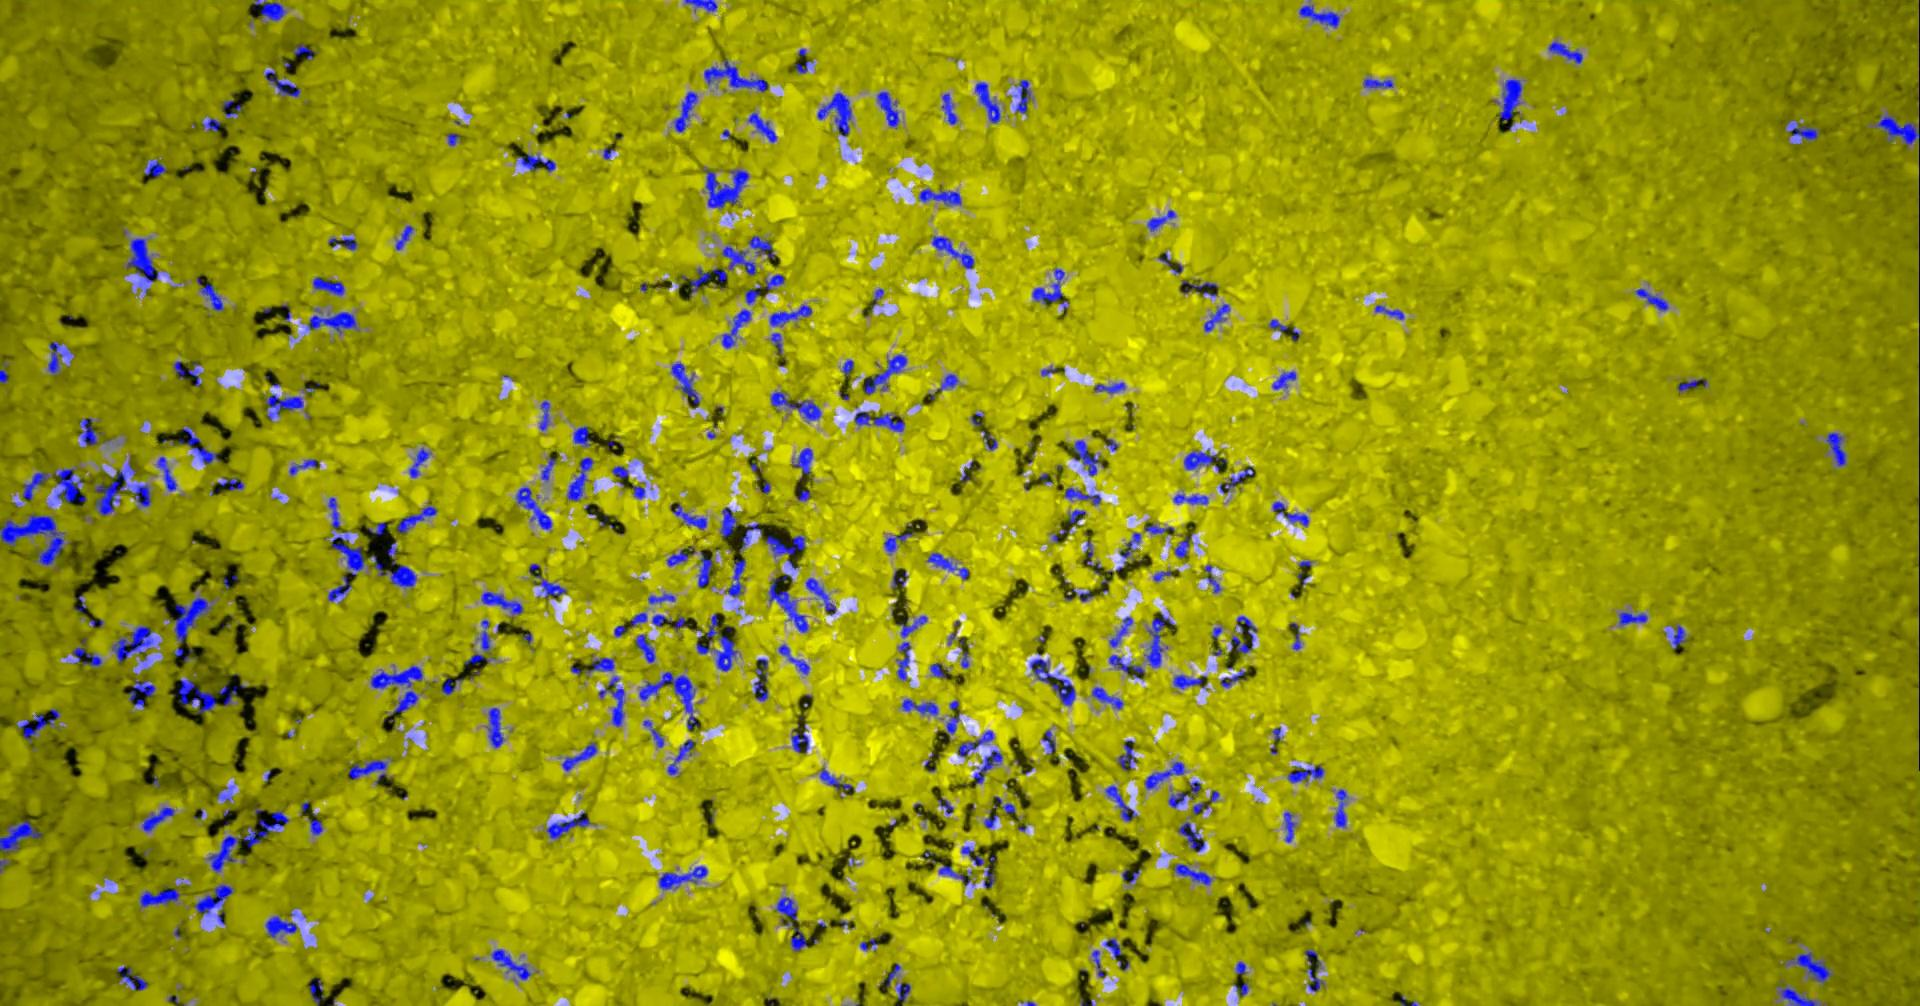ant: (207, 810, 288, 873), (637, 671, 697, 730), (370, 666, 422, 715), (1030, 652, 1076, 705), (768, 573, 808, 633), (94, 462, 135, 514), (703, 58, 767, 91), (703, 169, 748, 208), (171, 427, 218, 464), (1143, 614, 1175, 667), (863, 354, 905, 394), (174, 597, 211, 641), (110, 625, 152, 662), (516, 486, 551, 528), (817, 91, 851, 135), (331, 531, 364, 575), (18, 708, 58, 743), (370, 555, 417, 586), (770, 391, 820, 419), (1032, 268, 1068, 307), (931, 235, 973, 268), (126, 238, 157, 281), (1785, 951, 1831, 981), (528, 563, 566, 597), (177, 680, 216, 713), (598, 676, 623, 727), (1876, 116, 1919, 145), (0, 821, 41, 851), (491, 948, 530, 979), (546, 812, 590, 838), (1103, 785, 1137, 821), (670, 362, 698, 404), (658, 865, 706, 889), (566, 457, 593, 500), (193, 884, 232, 913), (396, 506, 437, 533), (690, 267, 726, 297), (805, 577, 836, 614), (721, 309, 750, 347), (55, 467, 86, 502), (927, 553, 968, 579), (1144, 761, 1183, 788), (721, 245, 756, 276), (307, 311, 356, 333), (1072, 439, 1101, 475), (265, 394, 303, 420), (974, 83, 999, 122), (1498, 79, 1521, 122), (1230, 615, 1256, 653), (196, 276, 223, 310), (770, 304, 811, 326), (1183, 448, 1225, 471), (561, 742, 596, 770), (673, 91, 697, 131), (855, 412, 904, 431), (481, 591, 522, 614), (778, 644, 809, 674), (973, 749, 1001, 782), (348, 760, 386, 784), (667, 739, 693, 774), (1109, 654, 1144, 680), (957, 730, 993, 756), (1299, 4, 1338, 27), (747, 112, 776, 142), (764, 533, 805, 555), (264, 71, 298, 97), (1219, 467, 1255, 492), (1272, 500, 1308, 525), (670, 504, 706, 528), (72, 636, 102, 666), (22, 473, 52, 500), (696, 614, 717, 653), (1168, 780, 1200, 807), (138, 885, 179, 906), (1173, 862, 1211, 884), (1547, 41, 1582, 64), (1779, 984, 1818, 1005), (141, 807, 174, 831), (876, 91, 898, 128), (570, 657, 615, 674), (714, 635, 737, 669), (1177, 822, 1204, 851), (819, 768, 851, 793), (1203, 304, 1229, 332), (1305, 949, 1323, 991), (1634, 288, 1669, 310), (1119, 532, 1140, 567), (116, 967, 147, 989), (173, 361, 201, 386), (130, 680, 155, 708), (486, 708, 504, 747), (1825, 432, 1845, 466), (1081, 540, 1101, 574), (1109, 616, 1131, 647), (918, 188, 960, 205), (1091, 686, 1123, 708), (728, 558, 745, 596), (775, 895, 796, 926), (265, 916, 296, 937), (517, 154, 554, 171), (157, 456, 177, 490), (253, 0, 284, 20), (47, 342, 67, 373), (738, 523, 761, 551), (1064, 486, 1100, 504), (1288, 765, 1323, 782), (408, 448, 429, 478), (938, 865, 969, 885), (1180, 279, 1217, 296), (312, 276, 344, 295), (1147, 210, 1175, 231), (883, 531, 912, 551), (748, 235, 775, 257), (899, 615, 926, 636), (218, 683, 245, 705), (634, 634, 654, 662), (665, 546, 695, 565), (1158, 251, 1182, 274), (328, 575, 350, 600), (221, 91, 241, 118), (791, 447, 811, 474), (697, 551, 712, 587), (902, 699, 937, 714), (643, 720, 663, 747), (77, 417, 97, 445), (897, 641, 910, 680), (754, 658, 767, 700), (1015, 79, 1030, 113), (1117, 741, 1135, 770), (1788, 122, 1818, 138), (720, 507, 737, 537), (941, 93, 956, 124), (791, 724, 808, 752), (1374, 304, 1403, 319), (290, 459, 319, 474), (1173, 674, 1205, 688), (130, 484, 150, 506), (1335, 789, 1346, 827), (881, 963, 900, 986), (395, 225, 413, 249), (1220, 669, 1244, 687), (790, 926, 808, 950), (983, 855, 996, 888), (961, 846, 983, 865), (1618, 611, 1647, 625), (143, 159, 166, 177), (1272, 371, 1295, 389), (309, 978, 324, 1005), (1283, 810, 1295, 842), (936, 373, 957, 391), (684, 0, 717, 11), (328, 497, 339, 530), (441, 677, 463, 694), (1671, 624, 1686, 648), (307, 810, 323, 835), (764, 274, 783, 293), (993, 796, 1015, 813), (1677, 379, 1705, 391), (293, 43, 316, 58), (573, 426, 590, 445), (1091, 950, 1103, 977), (612, 465, 629, 485), (1103, 937, 1120, 958), (328, 238, 356, 249), (541, 457, 555, 480), (173, 647, 196, 661), (897, 982, 910, 1005), (1095, 382, 1125, 392), (538, 400, 549, 431), (1143, 523, 1173, 533), (218, 478, 243, 490), (1043, 729, 1055, 753), (1173, 494, 1208, 503), (1175, 536, 1189, 558), (891, 569, 907, 588), (465, 653, 488, 666), (745, 283, 759, 304), (648, 593, 676, 603), (480, 619, 489, 650), (946, 713, 959, 734), (1123, 868, 1140, 883), (367, 521, 386, 535), (930, 663, 949, 677), (770, 332, 781, 354), (1363, 77, 1392, 86), (1068, 509, 1084, 525), (982, 431, 996, 448), (983, 809, 997, 827), (386, 541, 396, 565), (794, 60, 813, 72), (1269, 319, 1288, 332), (74, 594, 86, 614), (651, 614, 670, 626), (858, 937, 877, 950), (672, 616, 687, 631), (937, 798, 952, 813), (630, 612, 646, 626), (202, 118, 220, 131), (795, 486, 810, 500), (842, 359, 853, 377), (1234, 982, 1248, 996), (1192, 801, 1208, 814), (631, 484, 644, 498), (0, 361, 8, 384), (447, 132, 458, 145), (1236, 962, 1244, 974)
